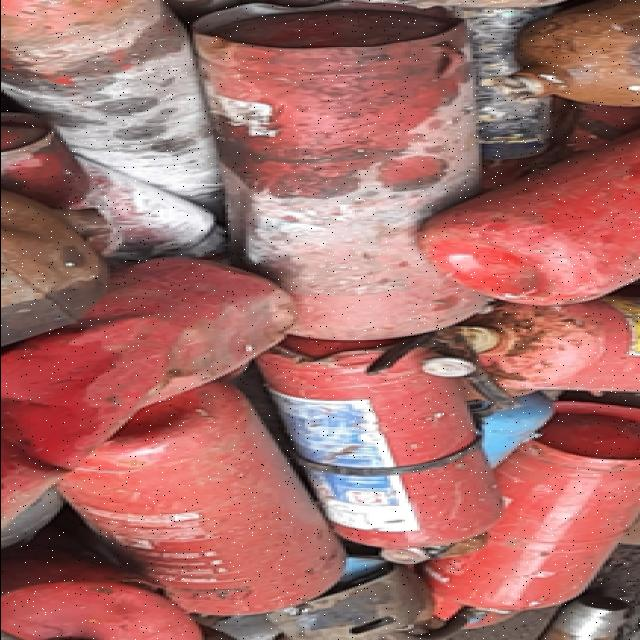cylinder: (194, 0, 521, 409), (51, 379, 346, 616)
